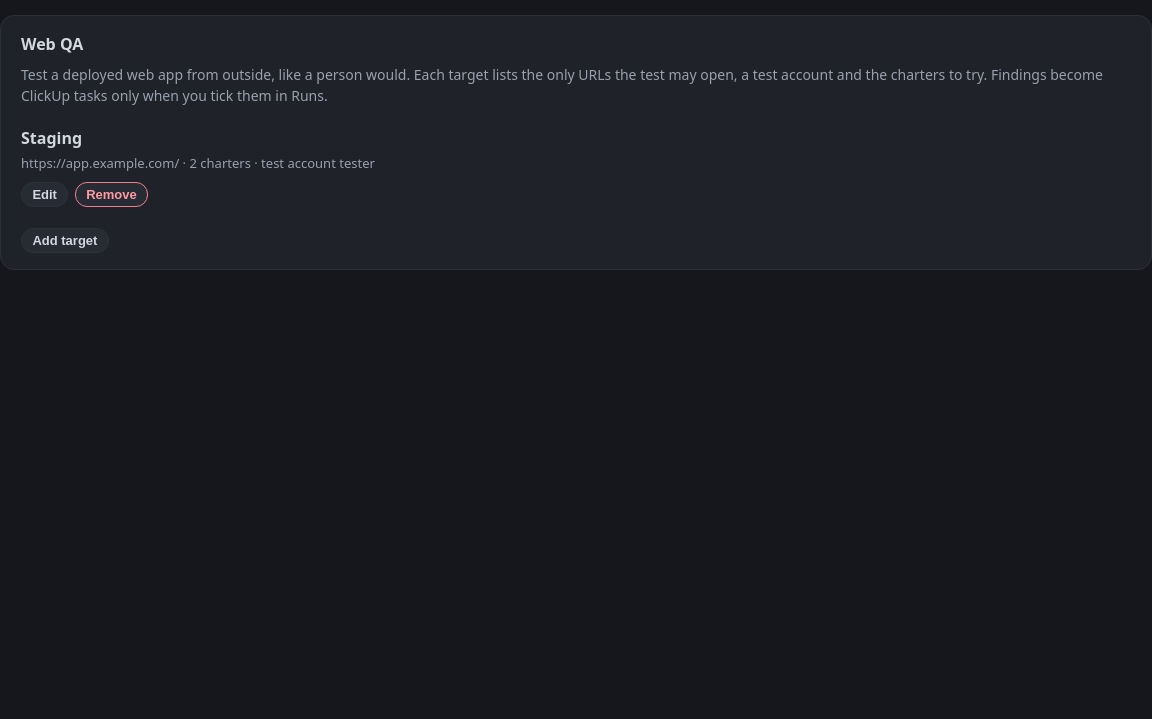
Test: WebQaTargets › shows the reason when the app refuses the save
Click the button "Edit": (45, 194) left=21, top=182, right=68, bottom=206
(page scrolled)
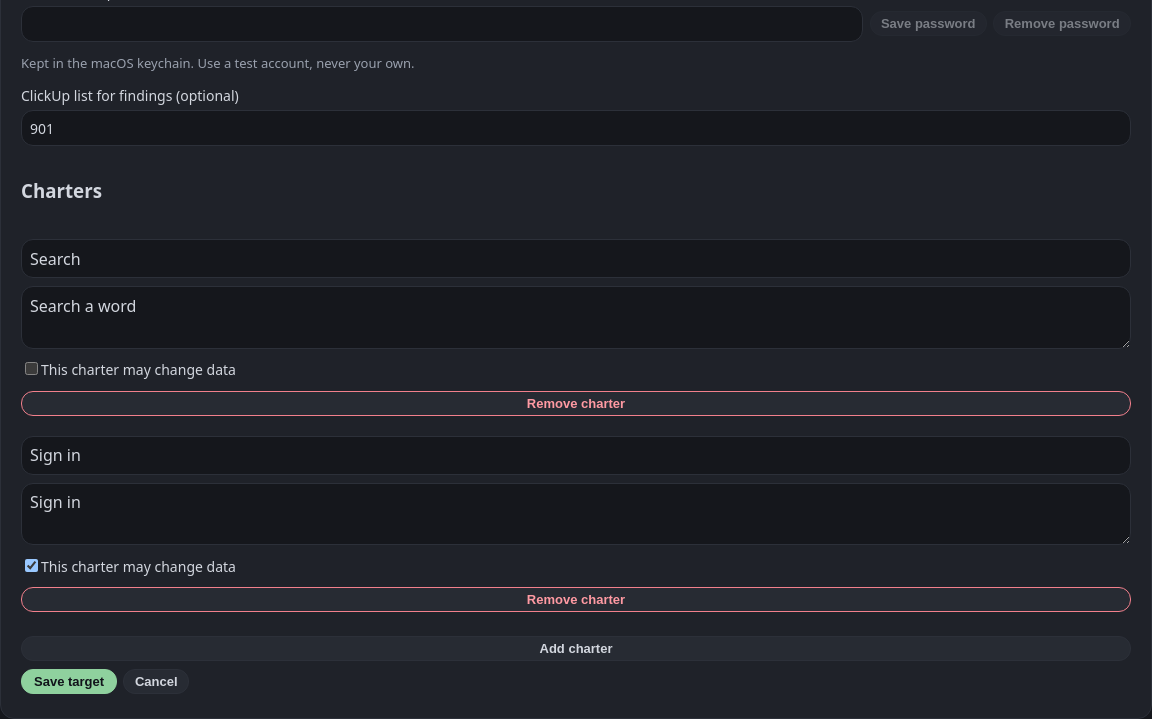
Click the button "Save target": (69, 682) left=21, top=669, right=117, bottom=694
(page scrolled)
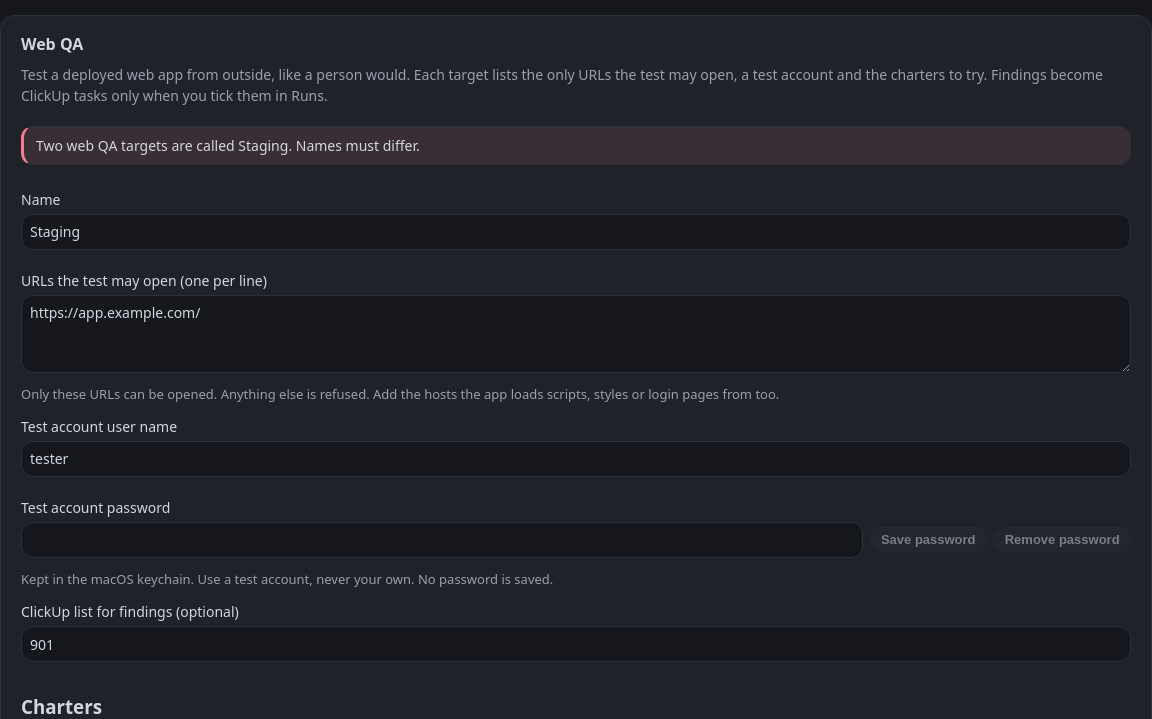
Expected: the message shows "Names must differ", left=36, top=136, right=420, bottom=155
